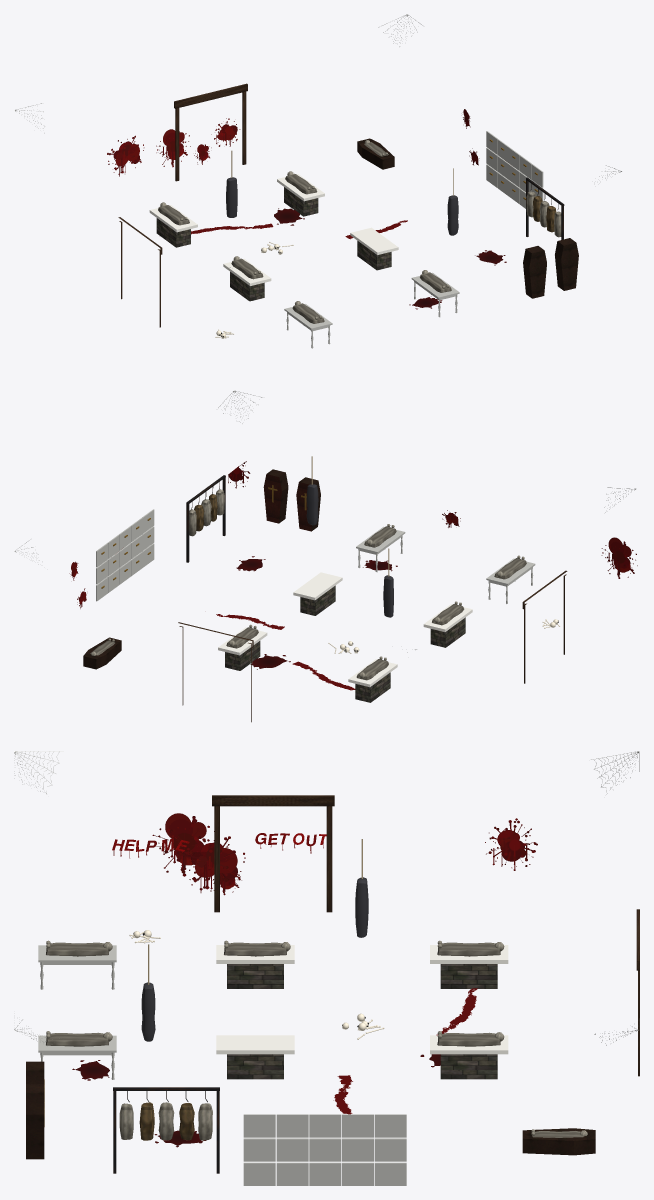
Rendered from dark_morgue.glb.
3 views of the same model, one above another, from view 1: azimuth 30°, elevation 25°; view 2: azimuth 150°, elevation 25°; view 3: azimuth 270°, elevation 25° (orthographic). The views are drawn at different scales.
Visible parts, largest first — view 1: dark_morgue; view 2: dark_morgue; view 3: dark_morgue.
Part boxes in pixels (x1,y1,x2,y2): dark_morgue: (14,14,621,348); dark_morgue: (14,390,637,722); dark_morgue: (14,751,639,1185).
Size of the model in its own units: 19.53 by 5.02 by 17.59.
Materials: 24 (18 with a texture image).
